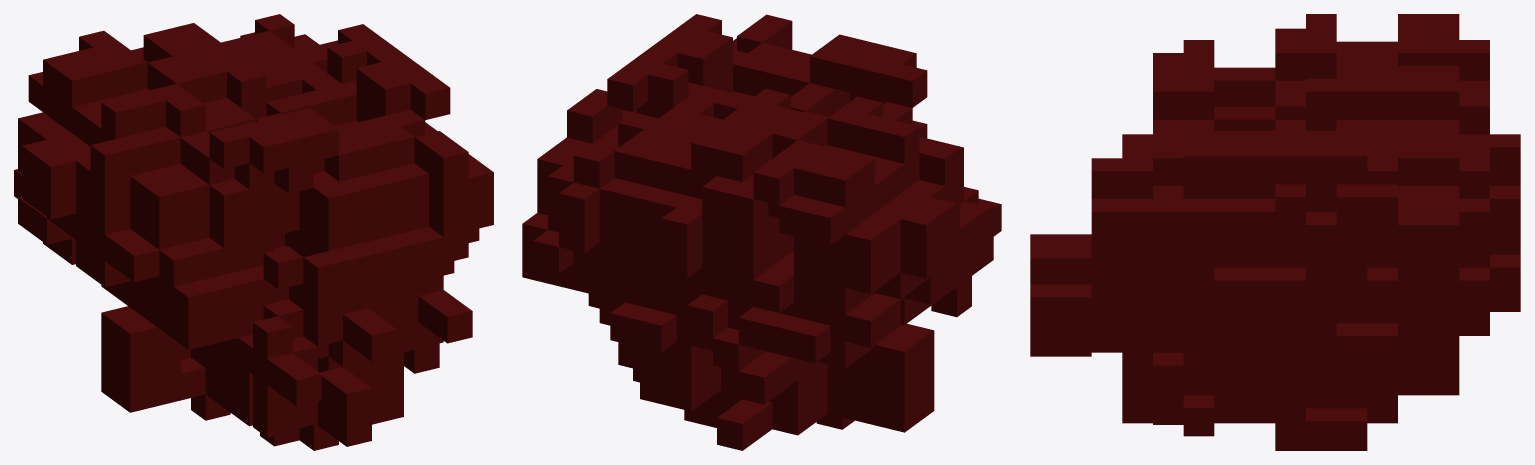
File: bad-3.obj
The picture shows the model from 3 angles, left to right: view 1: azimuth 30°, elevation 25°; view 2: azimuth 150°, elevation 25°; view 3: azimuth 270°, elevation 25°; orthographic projection. The views are drawn at different scales.
Bounding box in the file's own units: 1.4 × 1.2 × 1.6.
1 material, 1 textured.
